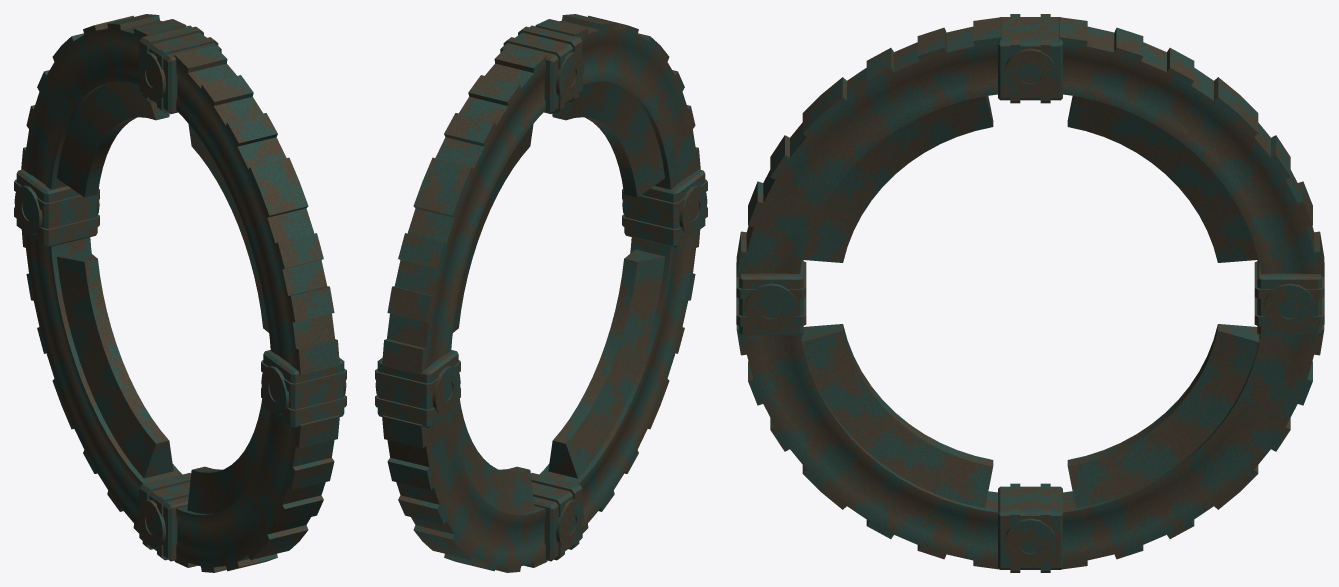
File: BigGear.fbx
3 renders of one model, left to right at view 1: azimuth 30°, elevation 25°; view 2: azimuth 150°, elevation 25°; view 3: azimuth 270°, elevation 25°, orthographic. The views are drawn at different scales.
Parts seen in each view (by area): view 1: BigGear.001; view 2: BigGear.001; view 3: BigGear.001.
Part boxes in pixels (<box>): BigGear.001: <box>14,14,346,572</box>; BigGear.001: <box>375,14,707,572</box>; BigGear.001: <box>736,14,1324,572</box>.
Bounding box in the file's own units: 6.15 × 49.55 × 49.55.
Materials: 1 (1 with a texture image).
